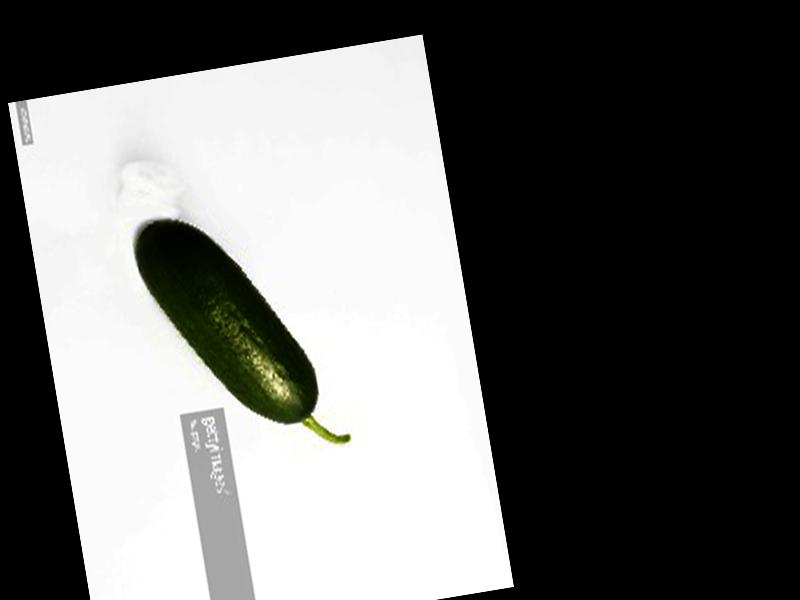Cucumber: (129, 198, 349, 476)
